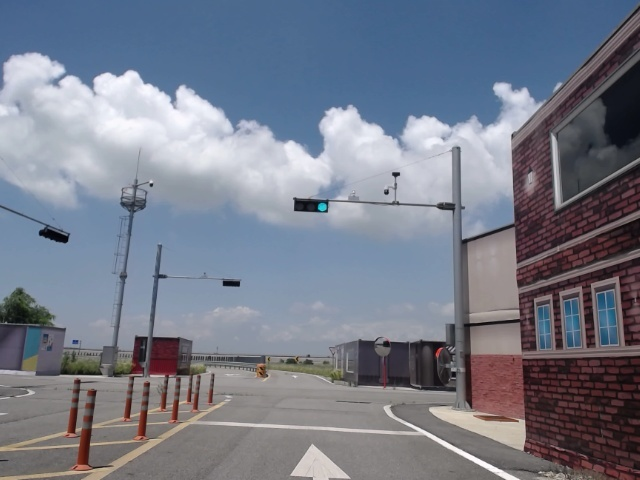green_3: (295, 201, 328, 211)
